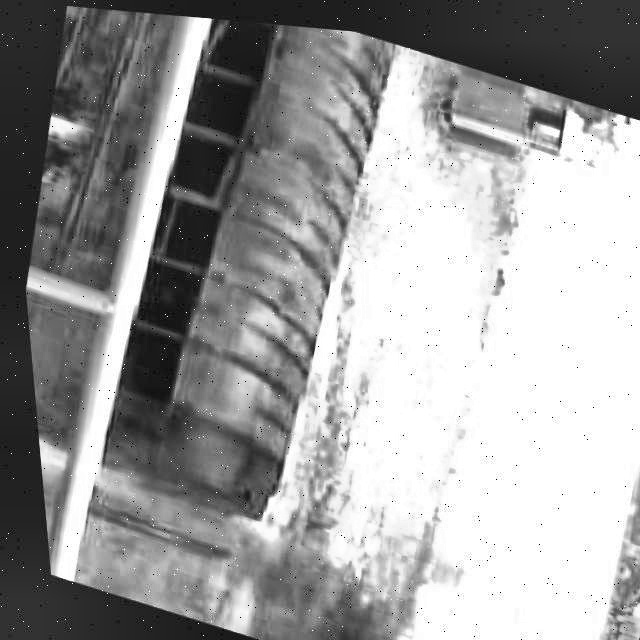Fire: (21, 52, 99, 222), (22, 321, 92, 491)
